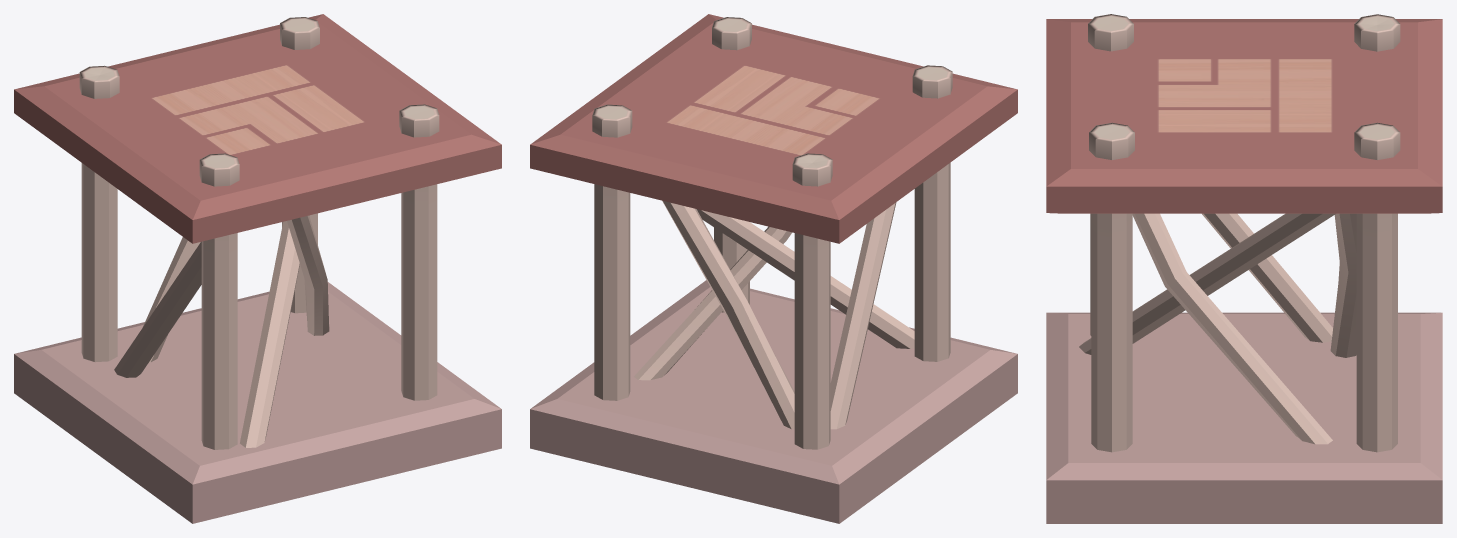
Rendered from wood.fbx.
The picture shows the model from 3 angles, left to right: view 1: azimuth 30°, elevation 25°; view 2: azimuth 150°, elevation 25°; view 3: azimuth 270°, elevation 25°; orthographic projection. The views are drawn at different scales.
Visible parts, largest first — view 1: polySurface35; view 2: polySurface35; view 3: polySurface35.
Part boxes in pixels (x1,y1,x2,y2): polySurface35: (14,14,501,523); polySurface35: (530,14,1017,523); polySurface35: (1046,14,1442,523).
Bounding box in the file's own units: 2 × 2.02 × 2.
